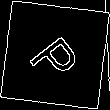P_NE: (24, 25, 86, 85)
